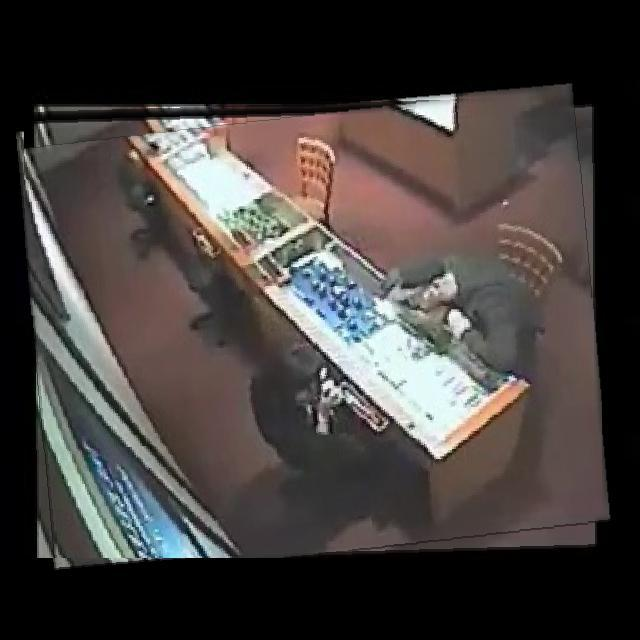Normal: (24, 95, 602, 558)
